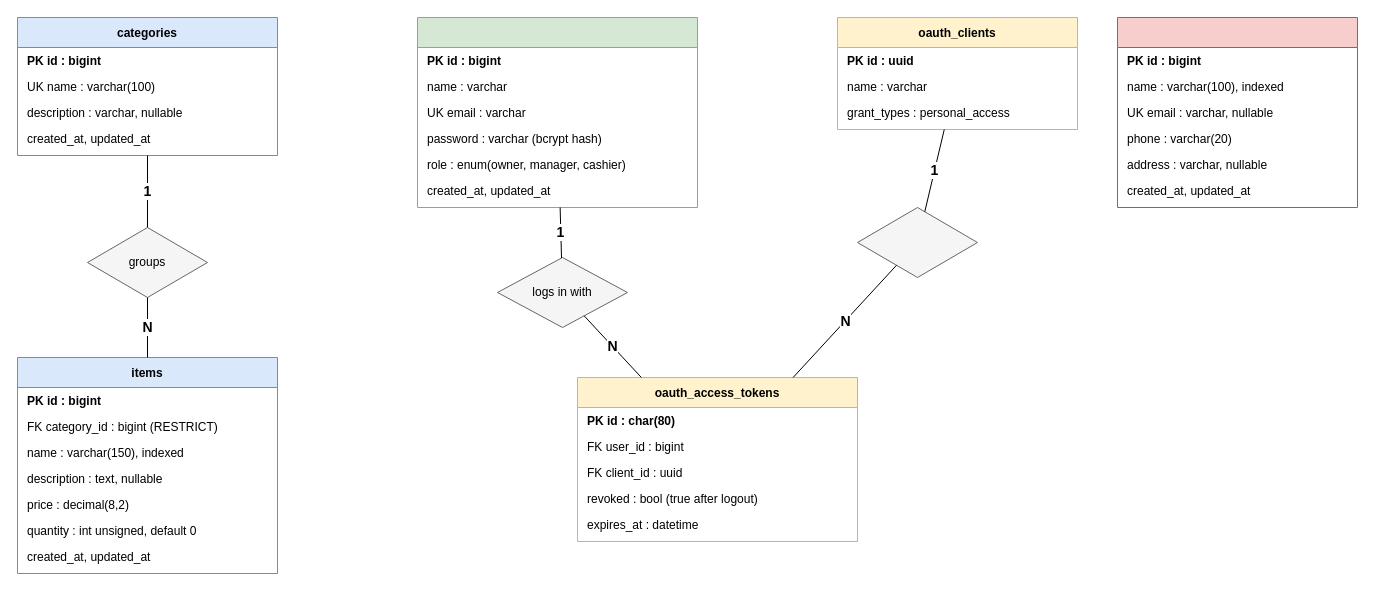
This 1375x591 diagram has some shape labels left out. The shapes that lost their labels are listed below. From the top down, each one's box as (x1, y1, x2, y2) in pixels, then its label:
(416, 16, 698, 208): users
(1116, 16, 1358, 208): customers
(856, 206, 978, 278): issues
